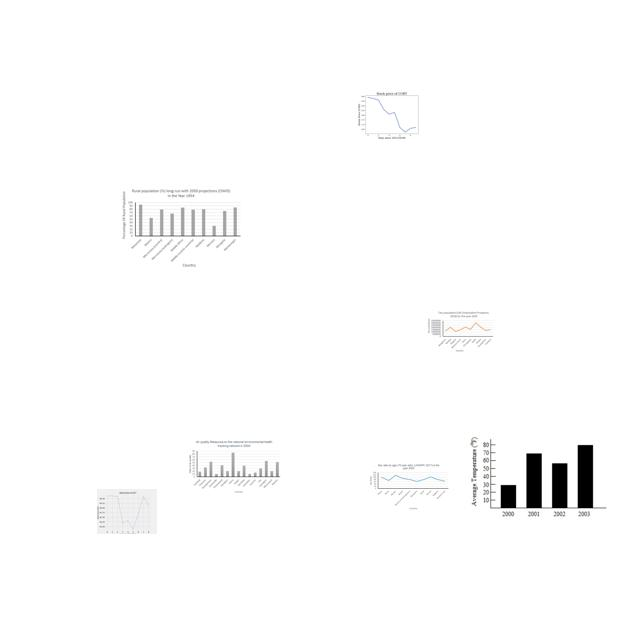Graph: (465, 428, 609, 525), (120, 187, 242, 268), (186, 439, 282, 494), (368, 463, 450, 511), (357, 89, 425, 140), (426, 310, 495, 353), (97, 489, 157, 534)
